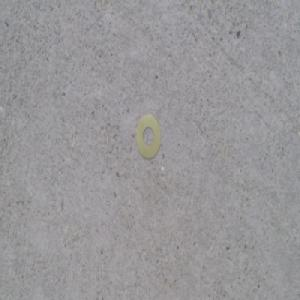Washer: (136, 113, 163, 162)
